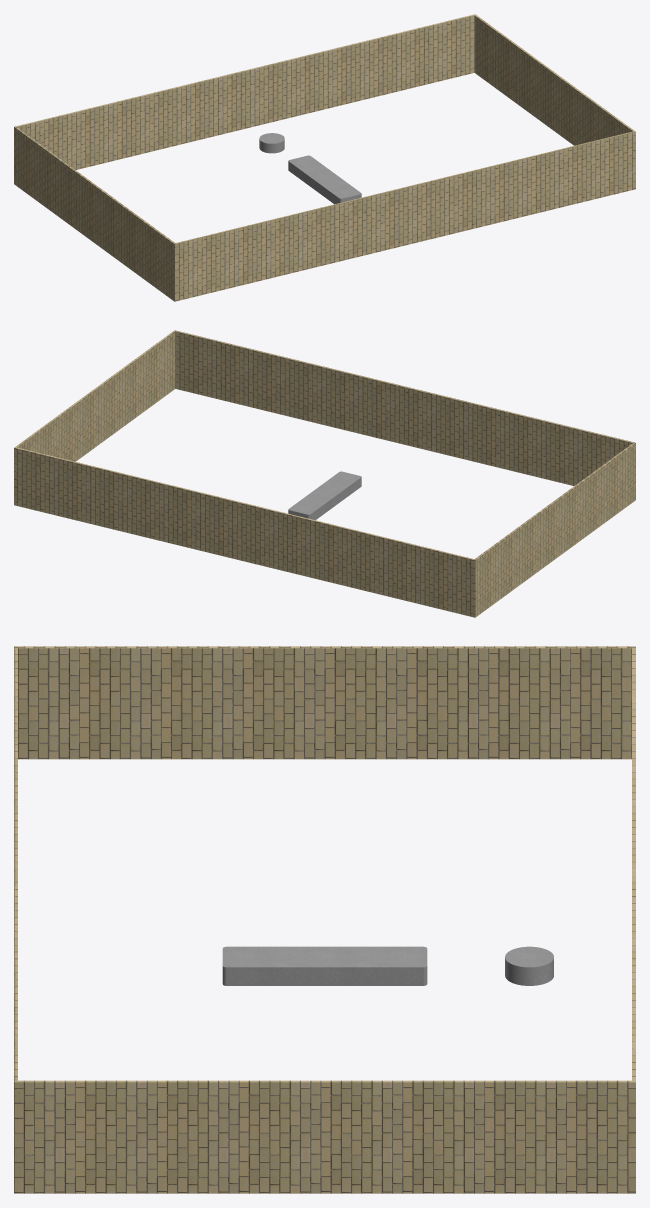
Rendered from envB.dae.
3 renders of one model, top to bottom at view 1: azimuth 30°, elevation 25°; view 2: azimuth 150°, elevation 25°; view 3: azimuth 270°, elevation 25°, orthographic. The views are drawn at different scales.
Parts seen in each view (by area): view 1: stitch_result_stitchFBXASC032all, stitch_result_stitchFBXASC032all_ncl1_2, stitch_result_stitchFBXASC032all_ncl1_1; view 2: stitch_result_stitchFBXASC032all, stitch_result_stitchFBXASC032all_ncl1_2; view 3: stitch_result_stitchFBXASC032all, stitch_result_stitchFBXASC032all_ncl1_2, stitch_result_stitchFBXASC032all_ncl1_1.
Part boxes in pixels (left/top/right/bottom): stitch_result_stitchFBXASC032all: left=14, top=14, right=635, bottom=301; stitch_result_stitchFBXASC032all_ncl1_2: left=288, top=155, right=361, bottom=204; stitch_result_stitchFBXASC032all_ncl1_1: left=259, top=133, right=284, bottom=153; stitch_result_stitchFBXASC032all: left=14, top=330, right=635, bottom=617; stitch_result_stitchFBXASC032all_ncl1_2: left=288, top=471, right=361, bottom=520; stitch_result_stitchFBXASC032all: left=14, top=646, right=635, bottom=1193; stitch_result_stitchFBXASC032all_ncl1_2: left=222, top=946, right=427, bottom=985; stitch_result_stitchFBXASC032all_ncl1_1: left=505, top=946, right=553, bottom=985.
Bounding box in the file's own units: 126 × 76 × 15.
2 materials, 2 textured.
